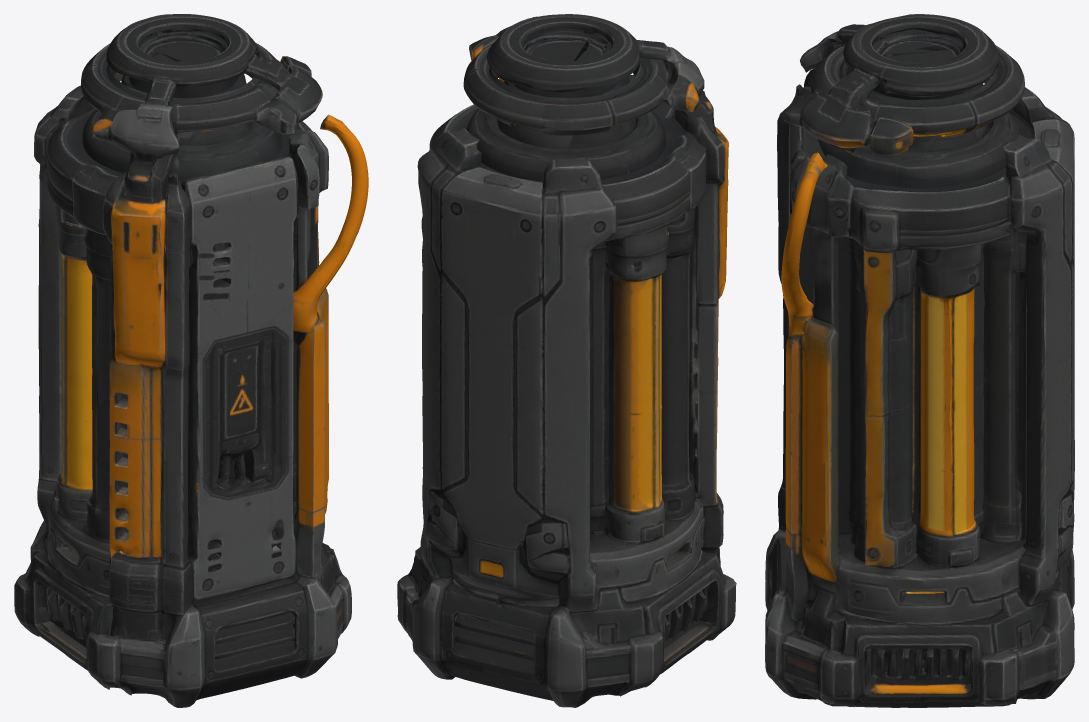
File: Meshy_AI_Power_Cell_03_0923183528_texture.fbx
3 views of the same model, side by side, from view 1: azimuth 30°, elevation 25°; view 2: azimuth 150°, elevation 25°; view 3: azimuth 270°, elevation 25° (orthographic). The views are drawn at different scales.
Parts seen in each view (by area): view 1: Mesh0; view 2: Mesh0; view 3: Mesh0.
Part boxes in pixels (x1,y1,x2,y2): Mesh0: [14, 14, 368, 707]; Mesh0: [397, 14, 736, 707]; Mesh0: [765, 14, 1074, 707].
Bounding box in the file's own units: 83.76 × 189 × 85.14.
1 material, 1 textured.
